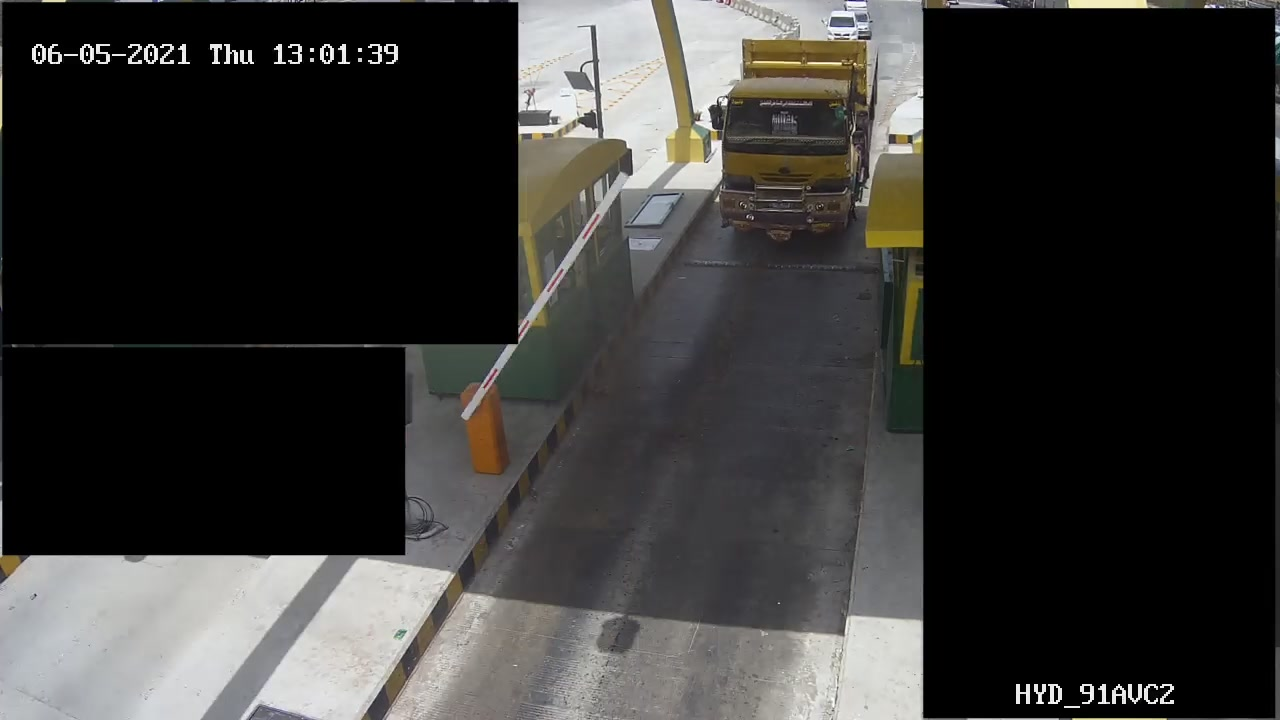F5: (710, 23, 872, 245)
